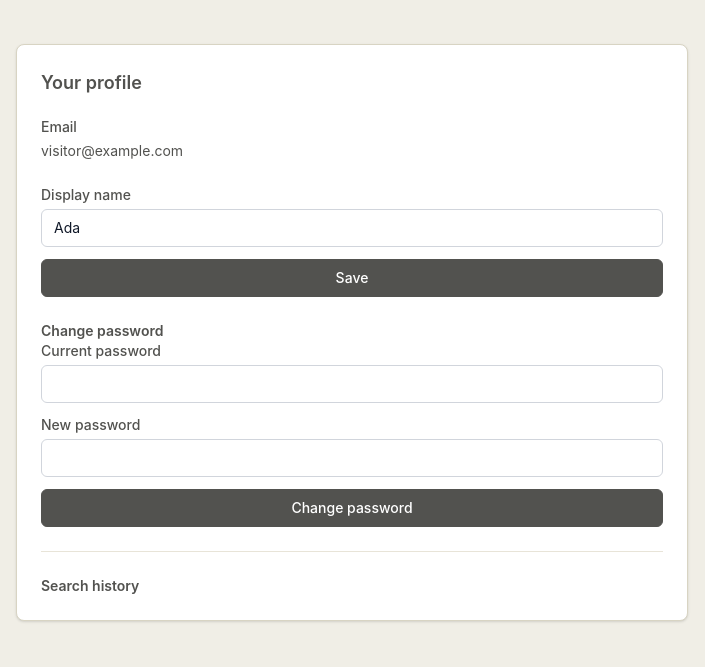
Test: ProfilePage › changes the password
This screenshot has width=705, height=667.
Expected: the field showing "Ada" is shown, [41, 208, 663, 246]
Type "old-pw" into the password field labelled "Current password" at (352, 384), box [41, 364, 663, 402]
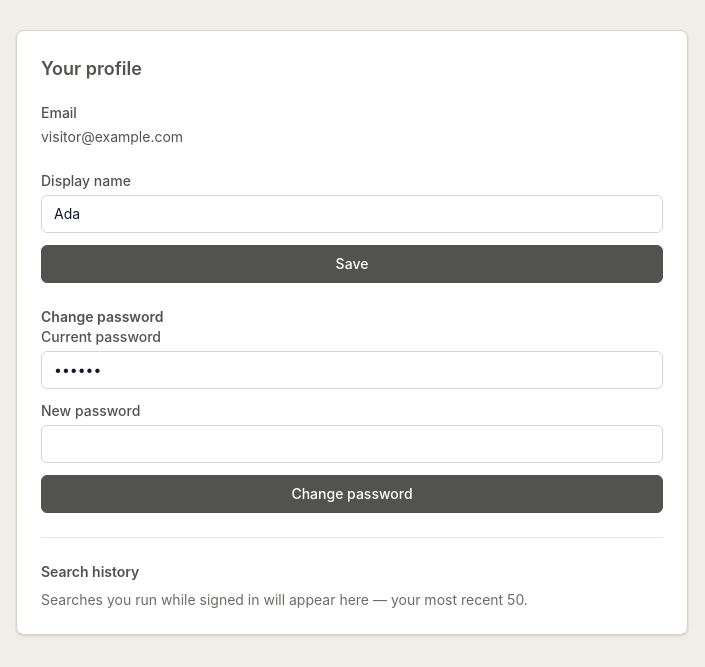
Type "new-pw" into the password field labelled "New password" at (352, 444), box [41, 424, 663, 462]
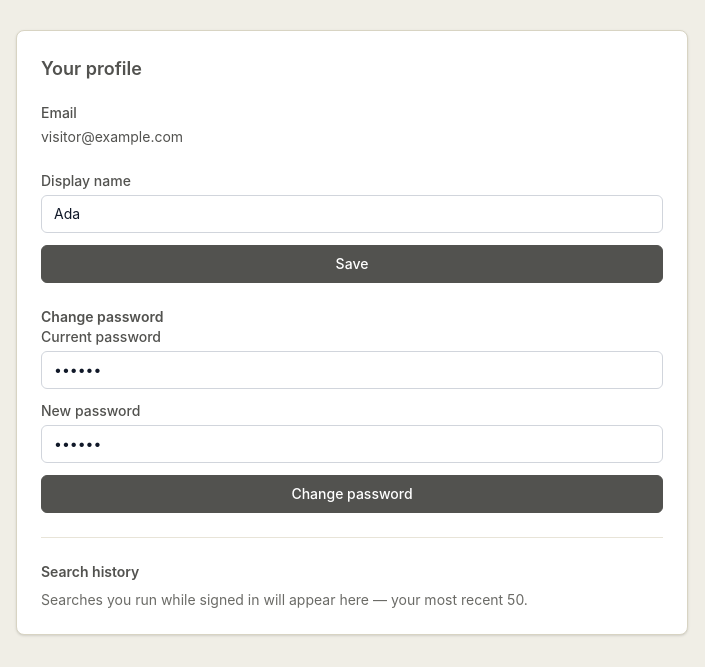
Click the button "Change password" at (352, 494), box [41, 474, 663, 512]
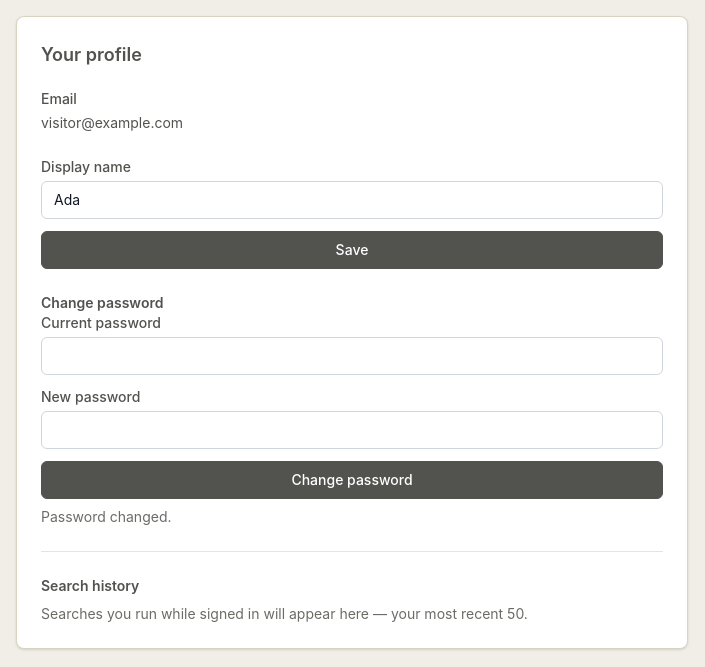
Result: the text "Password changed." is shown at [41, 508, 172, 524]
